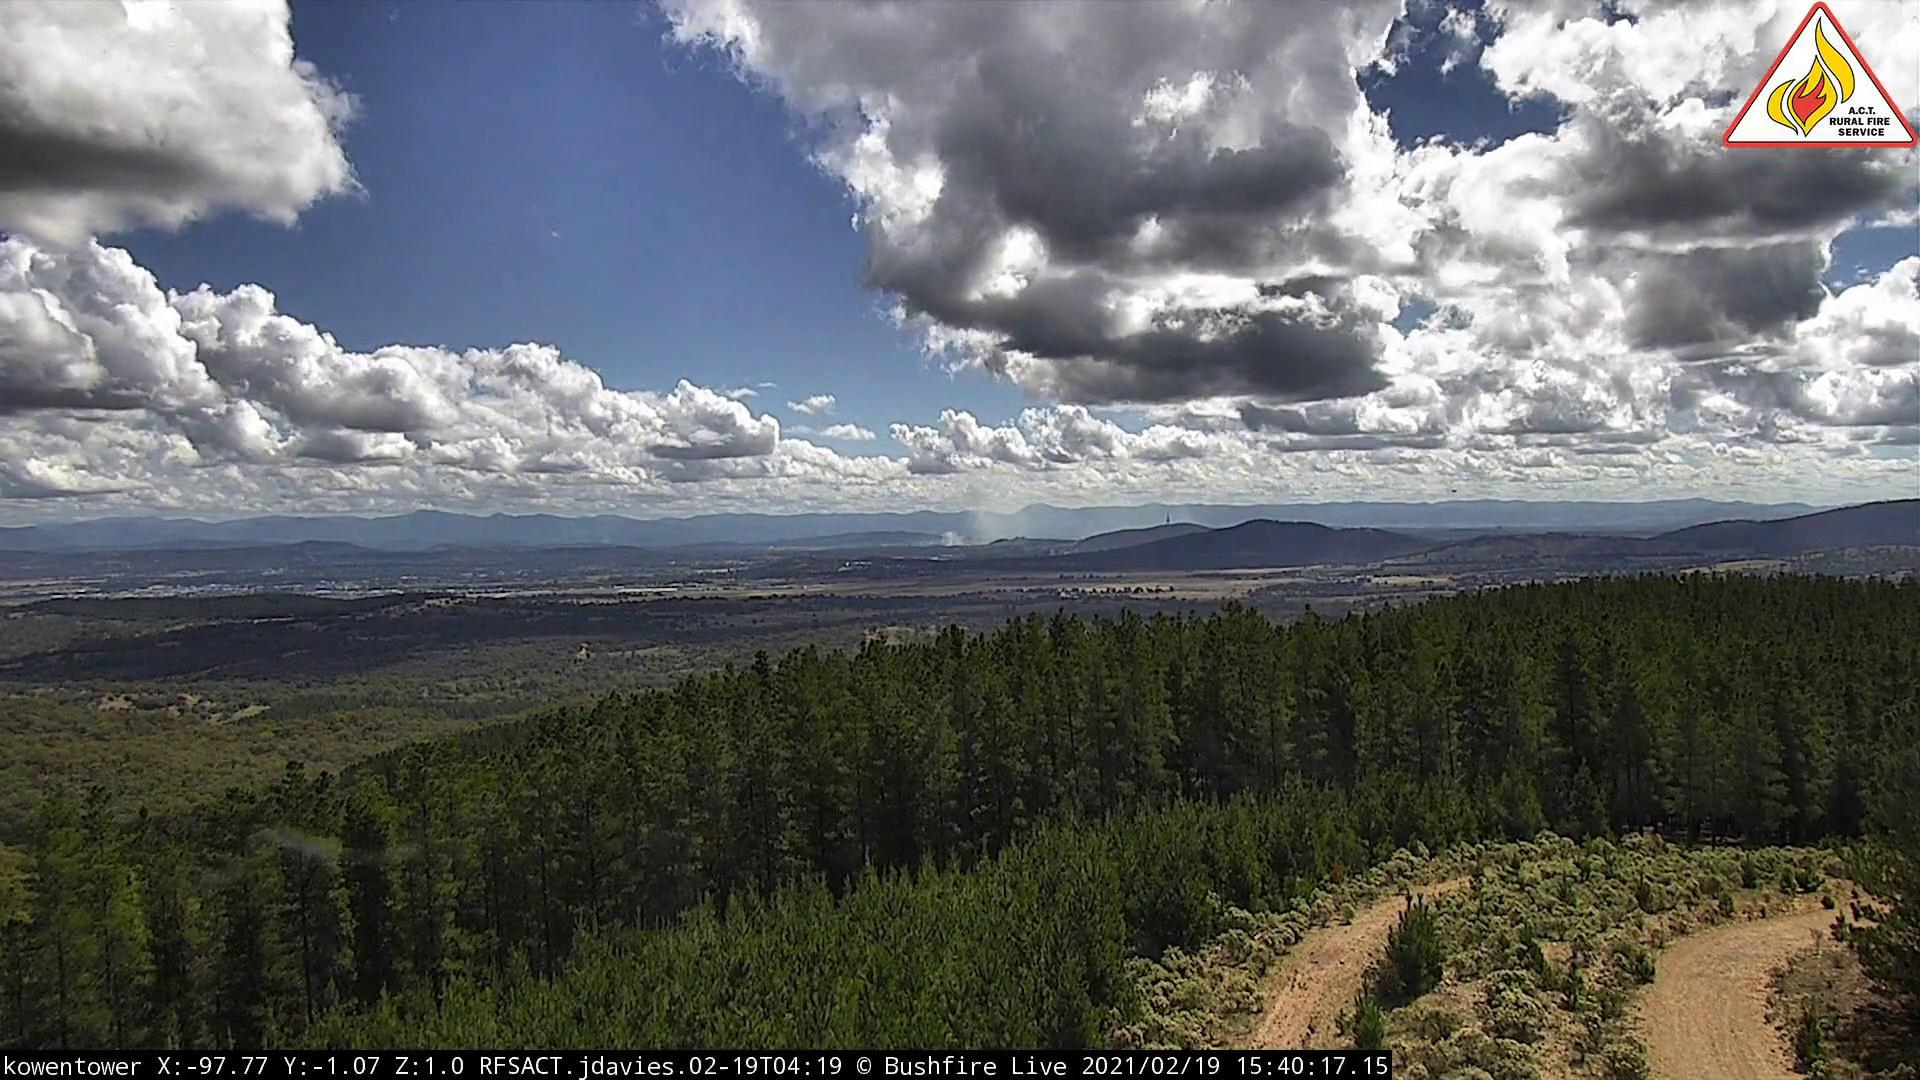Smoke: (938, 498, 1038, 554), (596, 529, 625, 554)
